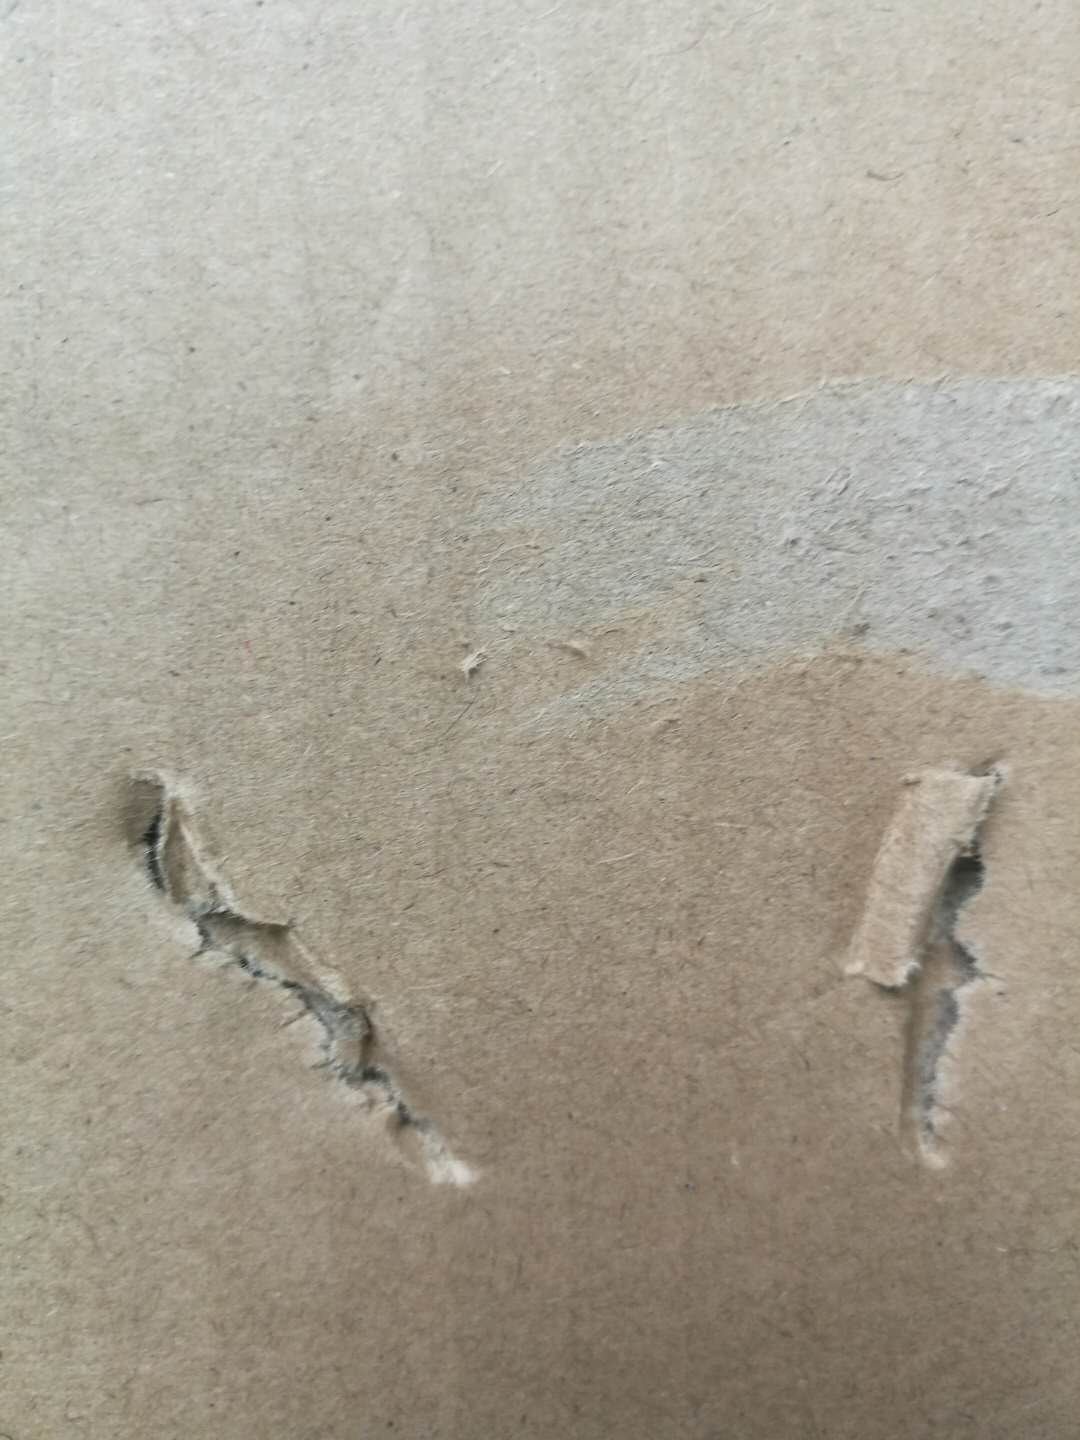defect: (412, 342, 1080, 748), (66, 742, 539, 1225), (822, 728, 1054, 1193)
